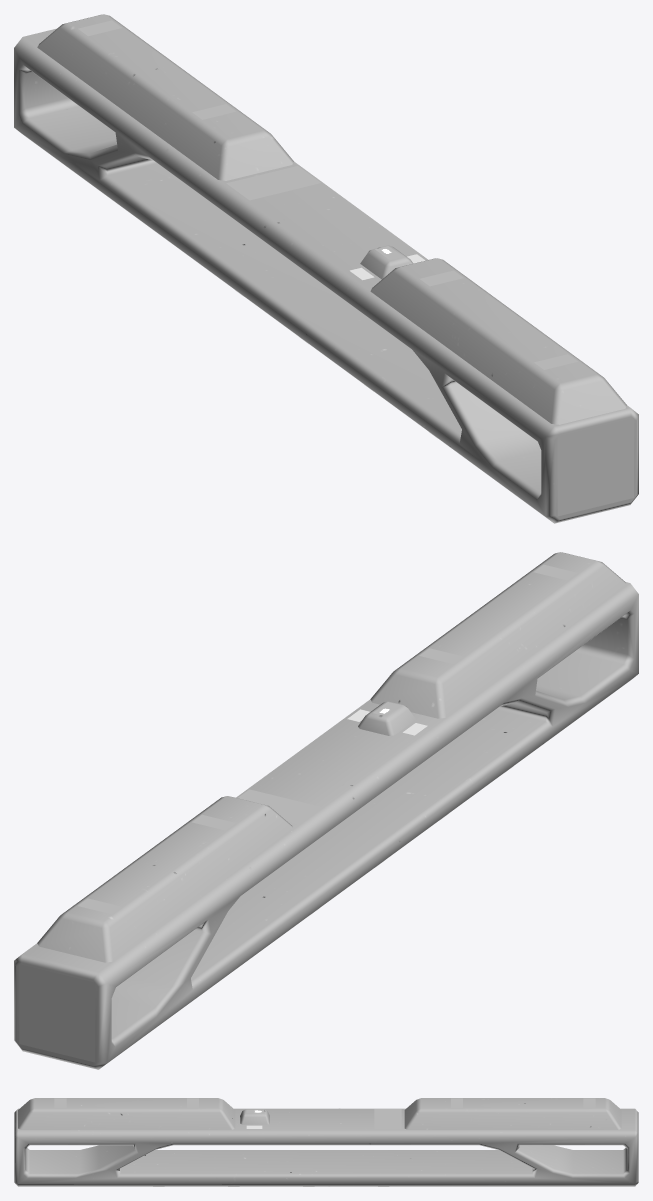
Rendered from SM_Pole_Merged.fbx.
3 renders of one model, top to bottom at view 1: azimuth 30°, elevation 25°; view 2: azimuth 150°, elevation 25°; view 3: azimuth 270°, elevation 25°, orthographic. The views are drawn at different scales.
Parts seen in each view (by area): view 1: SM_Pole_Merged_LOD0; view 2: SM_Pole_Merged_LOD0; view 3: SM_Pole_Merged_LOD0.
Part boxes in pixels (<box>): SM_Pole_Merged_LOD0: <box>14,14,638,523</box>; SM_Pole_Merged_LOD0: <box>14,552,638,1069</box>; SM_Pole_Merged_LOD0: <box>14,1098,638,1186</box>.
Size of the model in its own units: 20 by 200 by 27.26.
